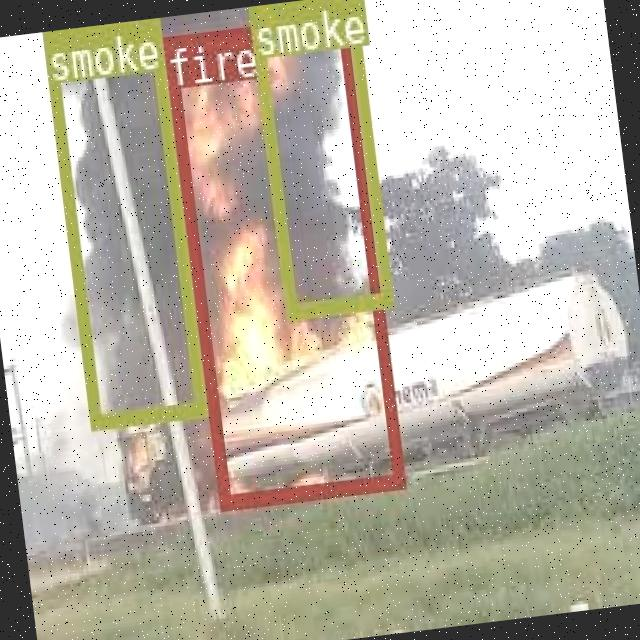fire: (160, 14, 402, 506)
smoke: (42, 18, 204, 428), (246, 0, 389, 317)
